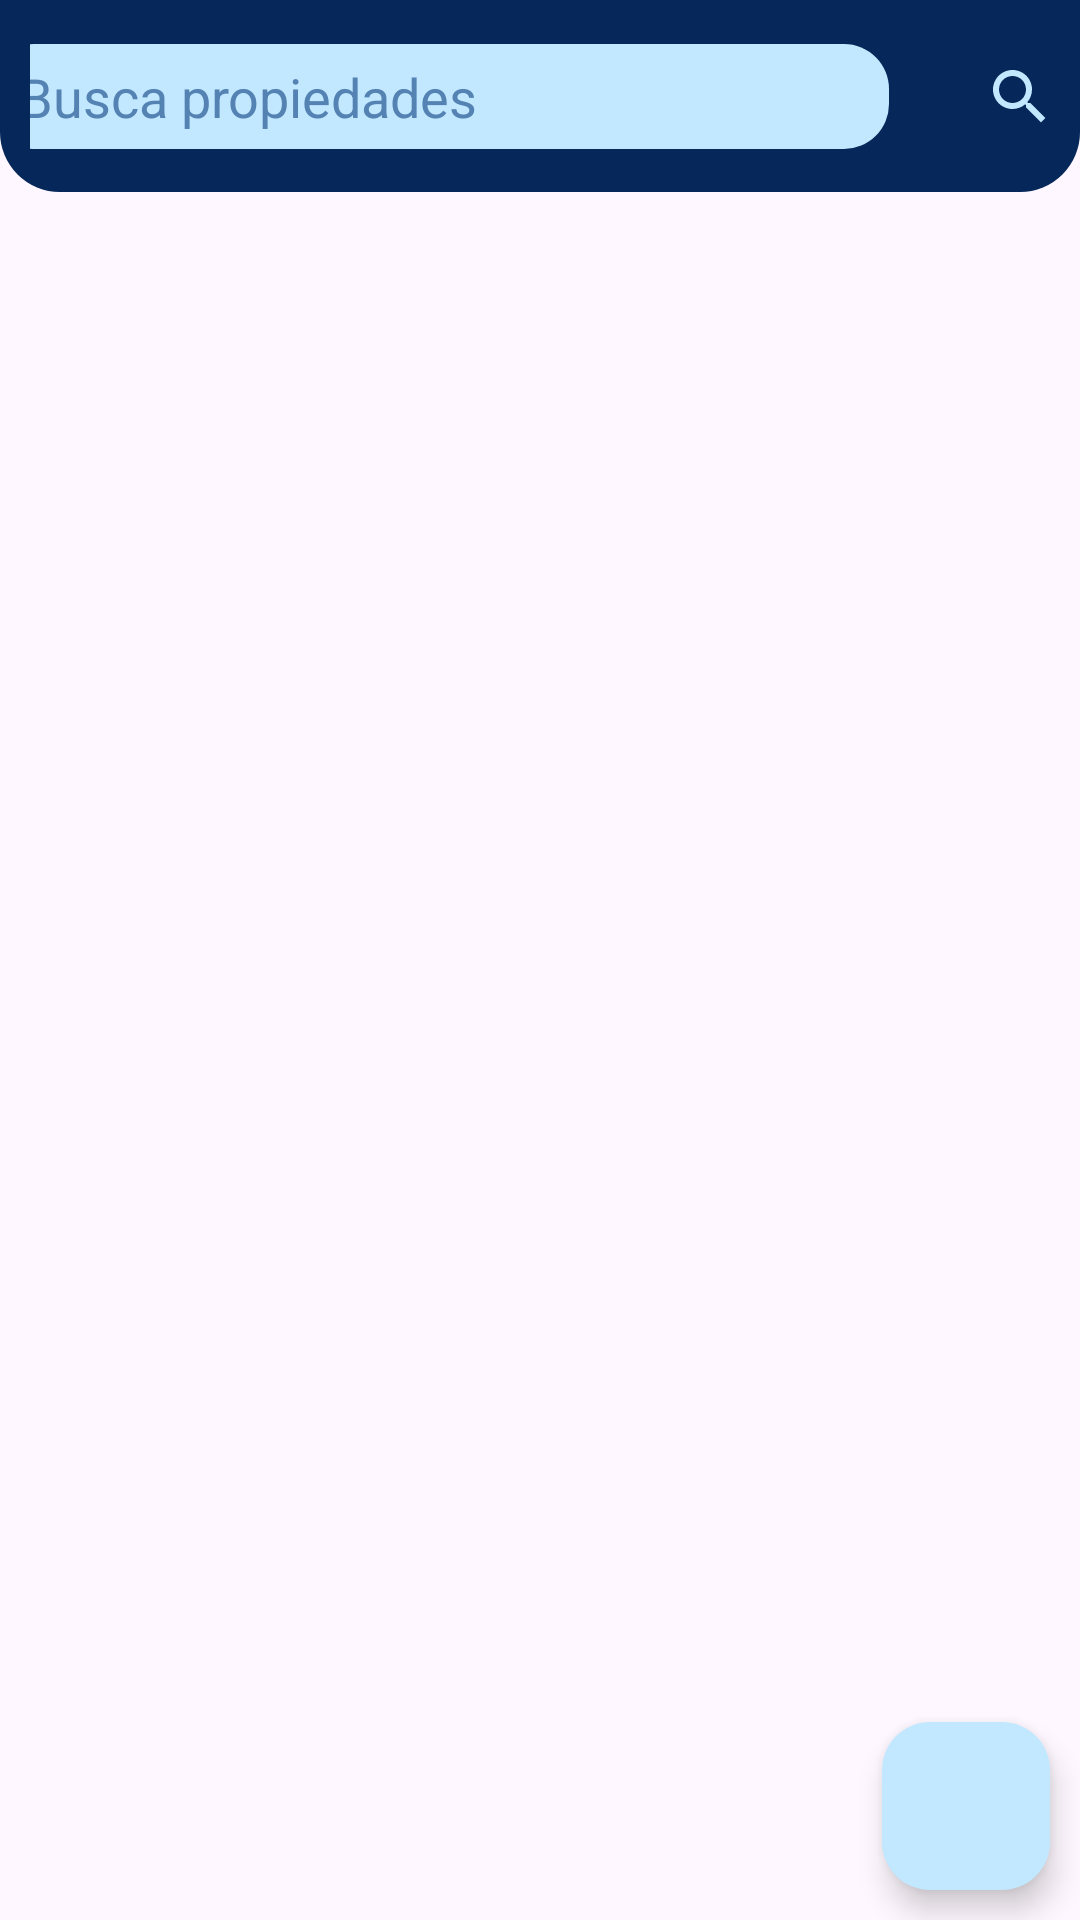

Icon bounding boxes for this 1080×1920 phone screenshot, format (x1, y1, x2, y2):
search: (993, 70, 1045, 122)
